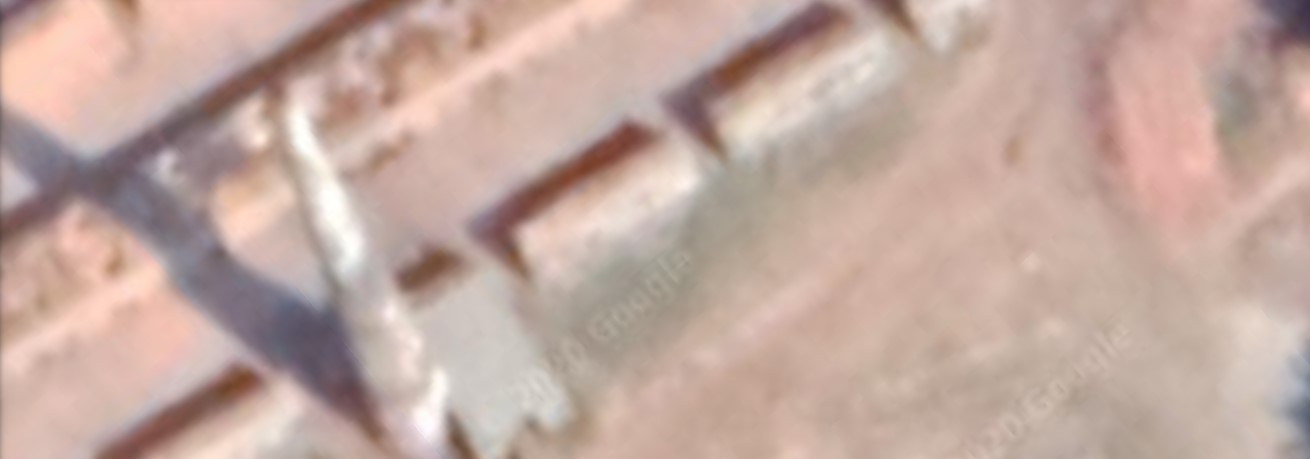kiln: (1, 2, 598, 459)
